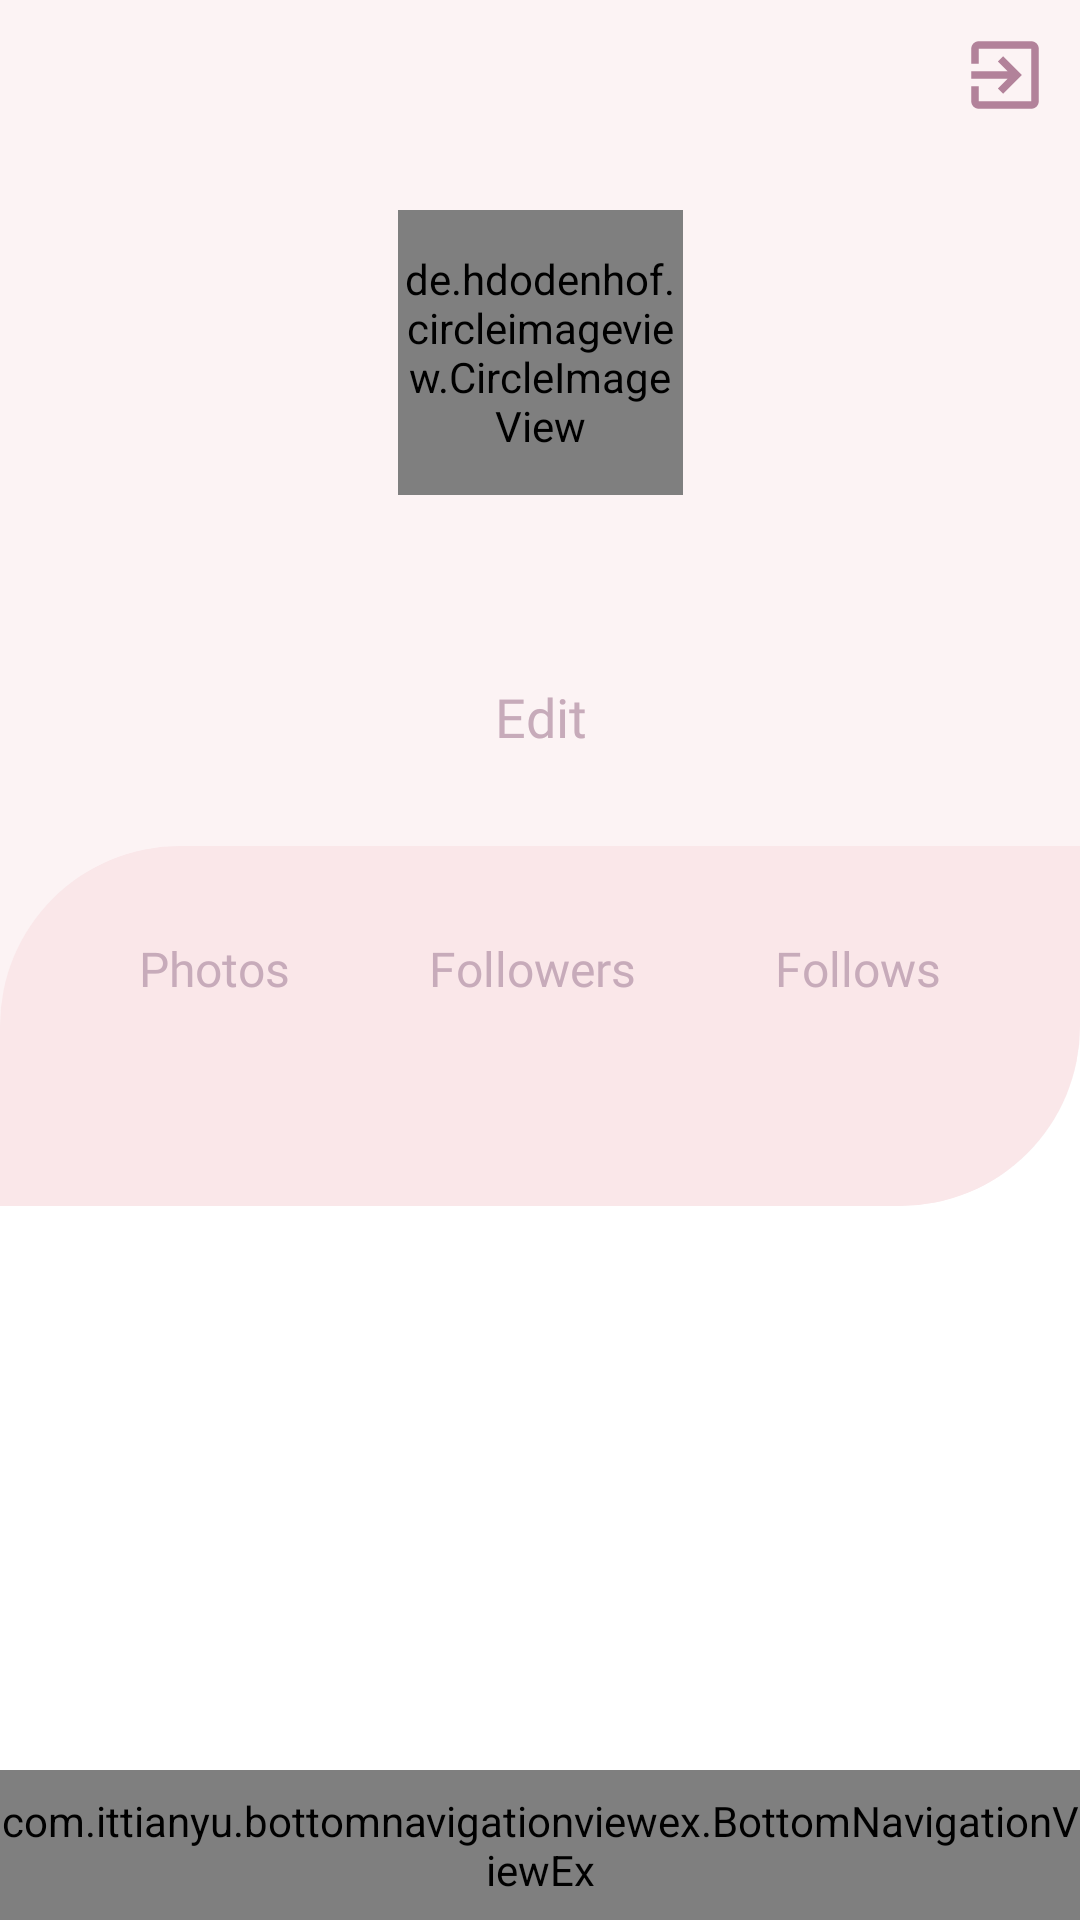

Screen size 1080px×1920px. Icon name, then its center in pixels as (x=x, y=y):
log out: (x=1005, y=75)
